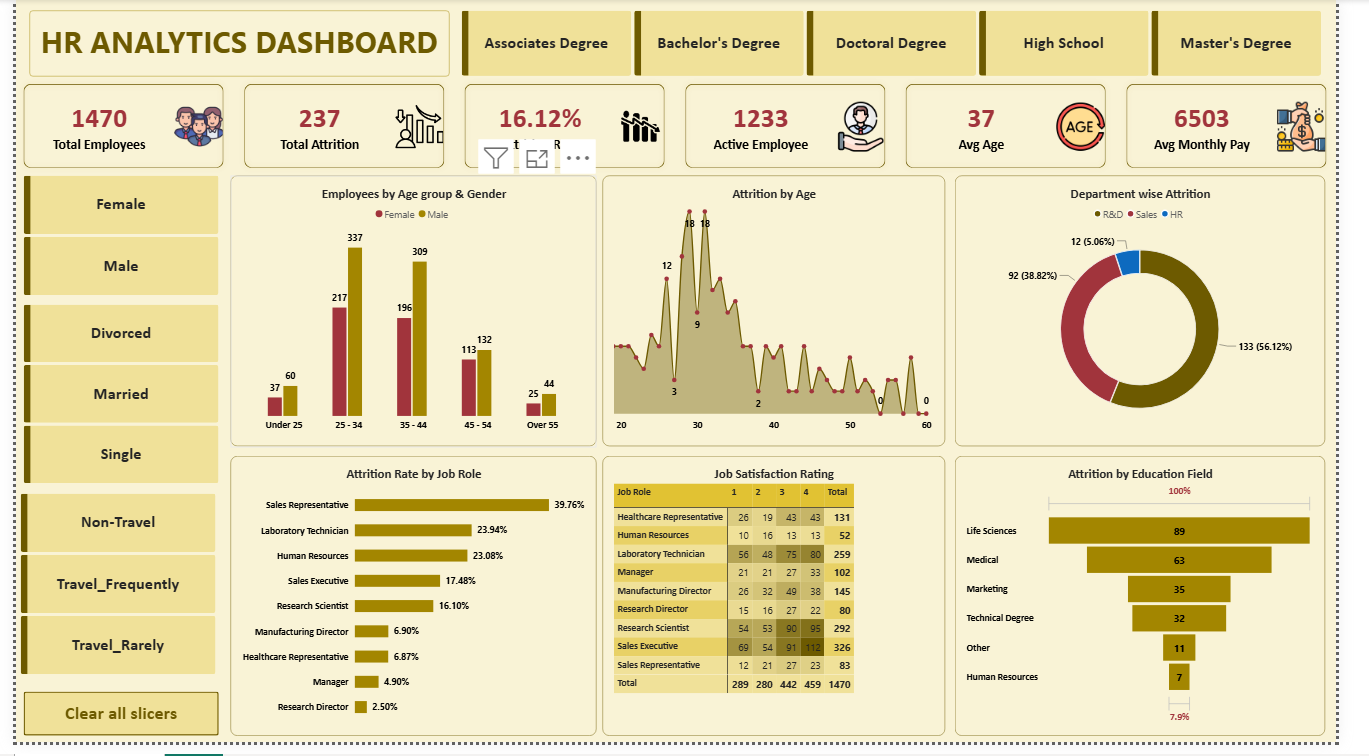

The dashboard page shown, as its layout file describes it:
{"tool":"powerbi","page":{"name":"Dashboard","canvas":[1920,1080],"ordinal":0},"visuals":[{"type":"cardVisual","fields":{"Data":["HR data.Total Employees","HR data.Total Attrition","HR data.Attrition Rate","HR data.Active Employee","Avg(HR data.Age)","Avg(HR data.Monthly Income)"]},"box":[0,111.4,1920,144.3],"z":0},{"type":"clusteredColumnChart","title":"Employees by Age group & Gender","fields":{"Category":["HR data.Age Group"],"Series":["HR data.Gender"],"Y":["HR data.Total Employees"]},"box":[311.4,255.7,532.9,394.3],"z":1000},{"type":"areaChart","title":"Attrition by Age","fields":{"Category":["HR data.Age"],"Y":["HR data.Total Attrition"]},"box":[854.3,255.7,498.6,394.3],"z":2000},{"type":"donutChart","title":"Department wise Attrition","fields":{"Category":["HR data.Department"],"Y":["HR data.Total Attrition"]},"box":[1365.7,255.7,538.6,394.3],"z":3000},{"type":"clusteredBarChart","fields":{"Category":["HR data.Job Role"],"Y":["HR data.Attrition Rate"]},"box":[311.4,663.3,532.9,407.1],"z":4000},{"type":"pivotTable","title":"Job Satisfaction Rating","fields":{"Columns":["HR data.Job Satisfaction"],"Rows":["HR data.Job Role"],"Values":["HR data.Total Employees"]},"box":[854.3,663.3,498.6,407.1],"z":5000},{"type":"funnel","title":"Attrition by Education Field","fields":{"Category":["HR data.Education Field"],"Y":["HR data.Total Attrition"]},"box":[1365.7,663.3,538.6,407.1],"z":6000},{"type":"advancedSlicerVisual","fields":{"Values":["HR data.Gender"]},"box":[10,255.7,284.3,174.3],"z":7000},{"type":"advancedSlicerVisual","fields":{"Values":["HR data.Marital Status"]},"box":[10,442.9,284.3,262.9],"z":8000},{"type":"advancedSlicerVisual","fields":{"Values":["HR data.Business Travel"]},"box":[7.1,718.6,284.3,265.7],"z":9000},{"type":"advancedSlicerVisual","fields":{"Values":["HR data.Education"]},"box":[648.6,15.7,1255.7,95.7],"z":10000},{"type":"actionButton","box":[10,1005.7,284.3,64.3],"z":11000},{"type":"textbox","box":[20,15.7,611.4,95.7],"z":12000}]}

Visuals, with their boxes in screenshot pixels (x1, y1, x2, y2), scaled from the page's 1920x1080 canvas onto the 1369x756 screenshot:
cardVisual - HR data.Total Employees x HR data.Total Attrition: l=0, t=78, r=1368, b=179
"Employees by Age group & Gender" clusteredColumnChart: l=222, t=179, r=602, b=455
"Attrition by Age" areaChart: l=609, t=179, r=965, b=455
"Department wise Attrition" donutChart: l=974, t=179, r=1358, b=455
clusteredBarChart - HR data.Job Role x HR data.Attrition Rate: l=222, t=464, r=602, b=749
"Job Satisfaction Rating" pivotTable: l=609, t=464, r=965, b=749
"Attrition by Education Field" funnel: l=974, t=464, r=1358, b=749
advancedSlicerVisual - HR data.Gender: l=7, t=179, r=210, b=301
advancedSlicerVisual - HR data.Marital Status: l=7, t=310, r=210, b=494
advancedSlicerVisual - HR data.Business Travel: l=5, t=503, r=208, b=689
advancedSlicerVisual - HR data.Education: l=462, t=11, r=1358, b=78
actionButton: l=7, t=704, r=210, b=749
textbox: l=14, t=11, r=450, b=78
